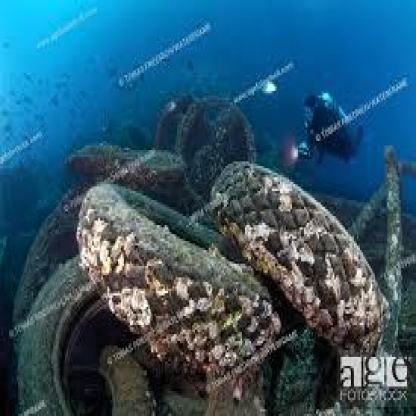tire: (219, 161, 390, 382), (98, 193, 271, 398), (33, 238, 163, 416), (164, 77, 258, 200)
